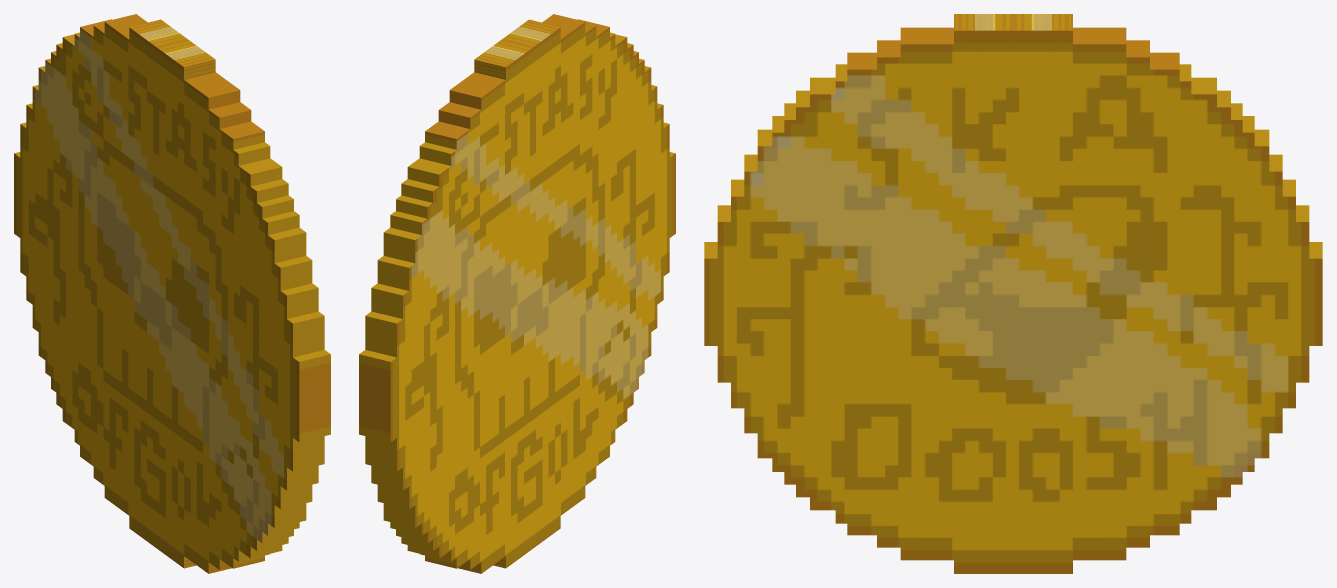
File: MONET0CHKA2.fbx
The picture shows the model from 3 angles, left to right: view 1: azimuth 30°, elevation 25°; view 2: azimuth 150°, elevation 25°; view 3: azimuth 270°, elevation 25°; orthographic projection. The views are drawn at different scales.
Parts seen in each view (by area): view 1: Cube; view 2: Cube; view 3: Cube.
Boxes of the visible parts, left/top/right/bottom form: Cube: left=14, top=14, right=330, bottom=573; Cube: left=359, top=14, right=675, bottom=573; Cube: left=704, top=14, right=1322, bottom=573.
Size of the model in its own units: 62.98 by 951 by 981.
2 materials, 2 textured.
